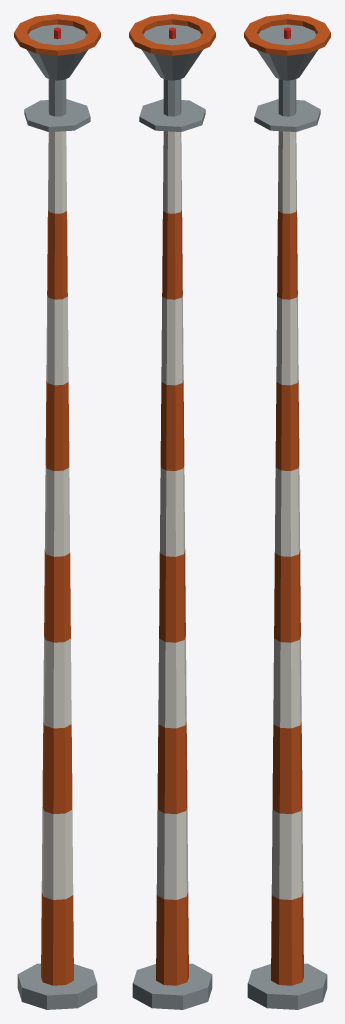
The model's file is mooring_mast.meshopt.glb.
The picture shows the model from 3 angles, left to right: view 1: azimuth 30°, elevation 25°; view 2: azimuth 150°, elevation 25°; view 3: azimuth 330°, elevation 25°; orthographic projection.
Parts seen in each view (by area): view 1: mooring_mast; view 2: mooring_mast; view 3: mooring_mast.
Boxes of the visible parts, x1=… form: mooring_mast: x1=14, y1=14, x2=100, y2=1009; mooring_mast: x1=129, y1=14, x2=215, y2=1009; mooring_mast: x1=244, y1=14, x2=330, y2=1009.
Size of the model in its own units: 3.8 by 46.6 by 3.8.
